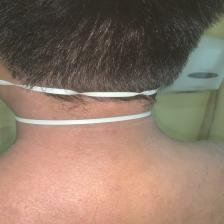DA: (32, 125, 134, 223)
